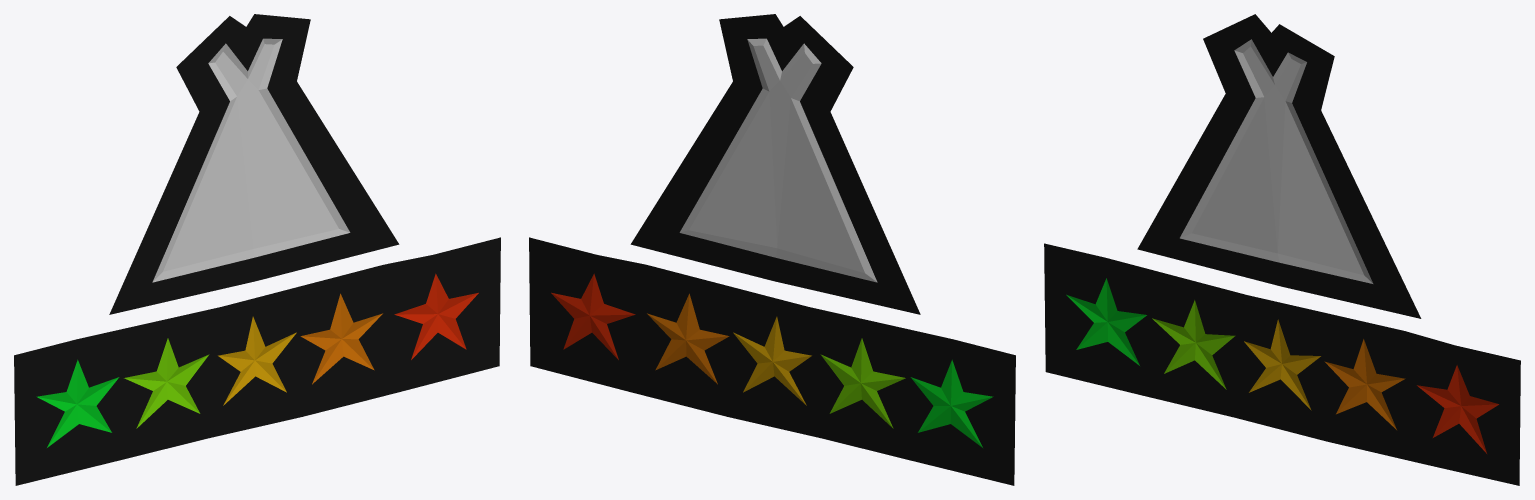
Rendered from icon_tribeSelection.glb.
3 views of the same model, side by side, from view 1: azimuth 30°, elevation 25°; view 2: azimuth 150°, elevation 25°; view 3: azimuth 330°, elevation 25° (orthographic). The views are drawn at different scales.
Visible parts, largest first — view 1: Cube.001; view 2: Cube.001; view 3: Cube.001.
Part boxes in pixels (box(x1,y1,x2,y2)): Cube.001: box(14, 14, 500, 485); Cube.001: box(529, 14, 1015, 485); Cube.001: box(1044, 14, 1520, 485).
Bounding box in the file's own units: 2.45 × 2.01 × 0.0127.
